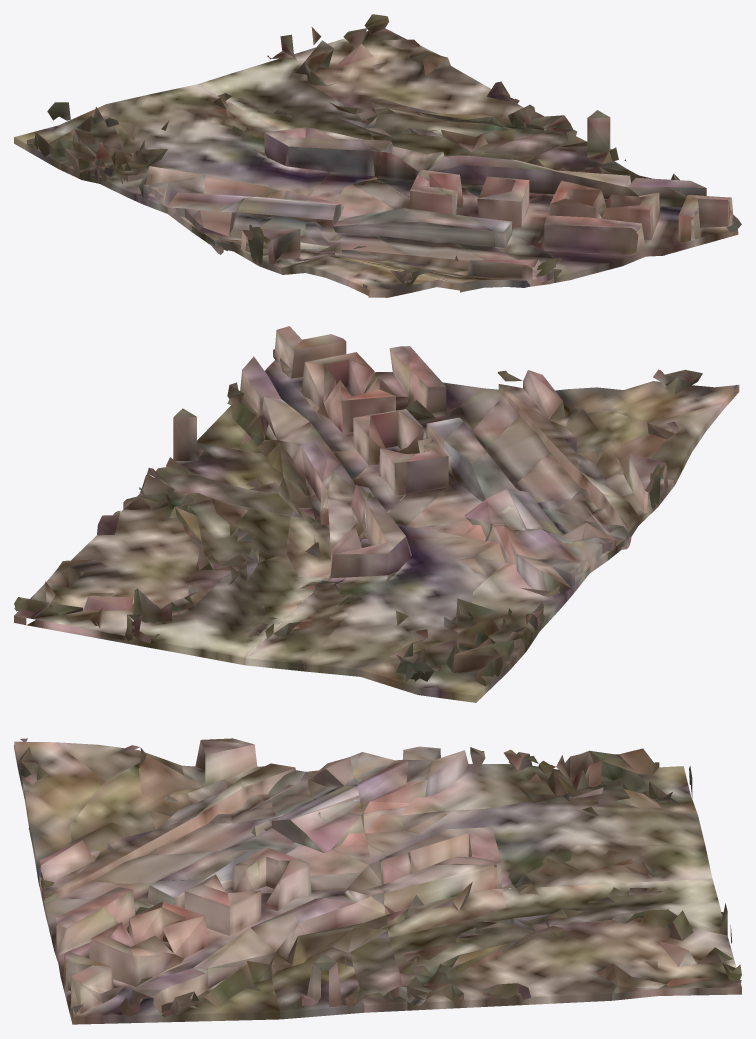
The picture shows the model from 3 angles, top to bottom: view 1: azimuth 30°, elevation 25°; view 2: azimuth 150°, elevation 25°; view 3: azimuth 270°, elevation 25°; orthographic projection. The views are drawn at different scales.
Parts seen in each view (by area): view 1: Mesh_0; view 2: Mesh_0; view 3: Mesh_0.
Boxes of the visible parts, x1=… form: Mesh_0: x1=14, y1=14, x2=741, y2=297; Mesh_0: x1=14, y1=326, x2=739, y2=702; Mesh_0: x1=14, y1=738, x2=741, y2=1024.
Bounding box in the file's own units: 537 × 81.56 × 659.
Materials: 1 (1 with a texture image).
